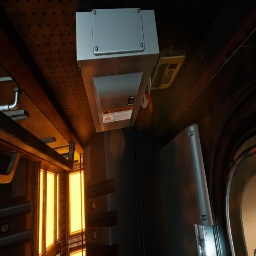EmergencyPhone ,: (150, 45, 186, 94)
SafetySwitchPanel ,: (76, 8, 160, 132)
